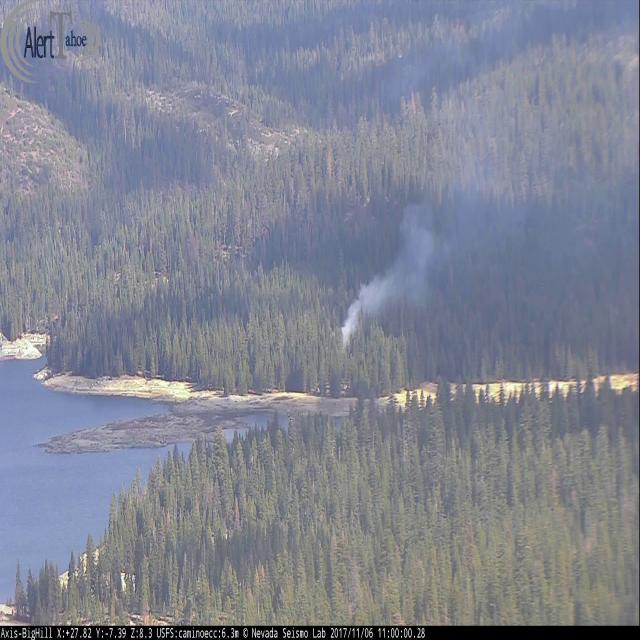smoke: (339, 67, 634, 354)
